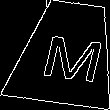M_N: (31, 24, 102, 82)
